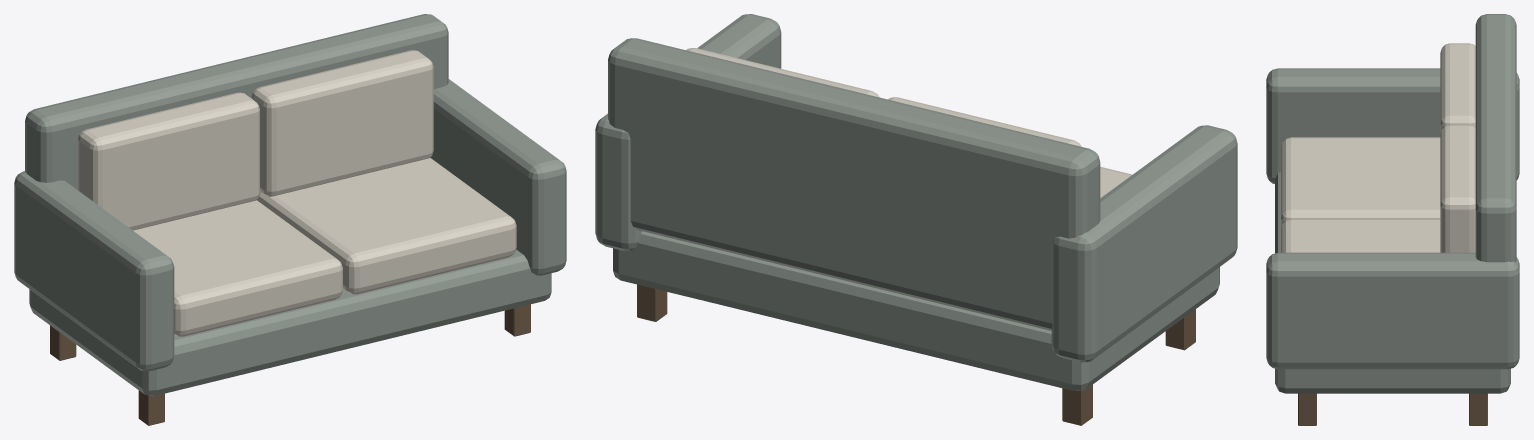
File: sofa_2seat.glb
The picture shows the model from 3 angles, left to right: view 1: azimuth 30°, elevation 25°; view 2: azimuth 150°, elevation 25°; view 3: azimuth 270°, elevation 25°; orthographic projection. The views are drawn at different scales.
Visible parts, largest first — view 1: sofa_2seat; view 2: sofa_2seat; view 3: sofa_2seat.
Boxes of the visible parts, box(x1,y1,x2,y2) form: sofa_2seat: box(14, 14, 566, 425); sofa_2seat: box(595, 14, 1237, 425); sofa_2seat: box(1266, 14, 1519, 425).
Bounding box in the file's own units: 1.62 × 0.86 × 0.86.
